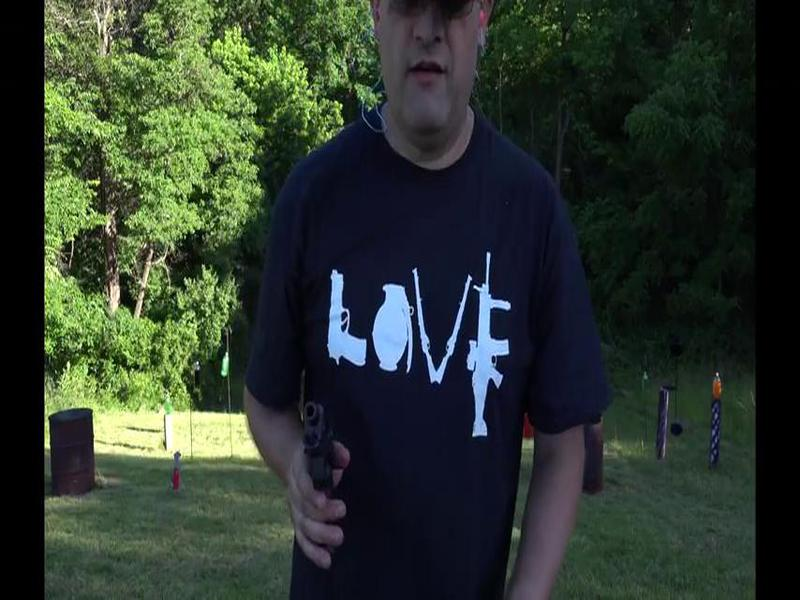Pistola: (290, 385, 357, 538)
